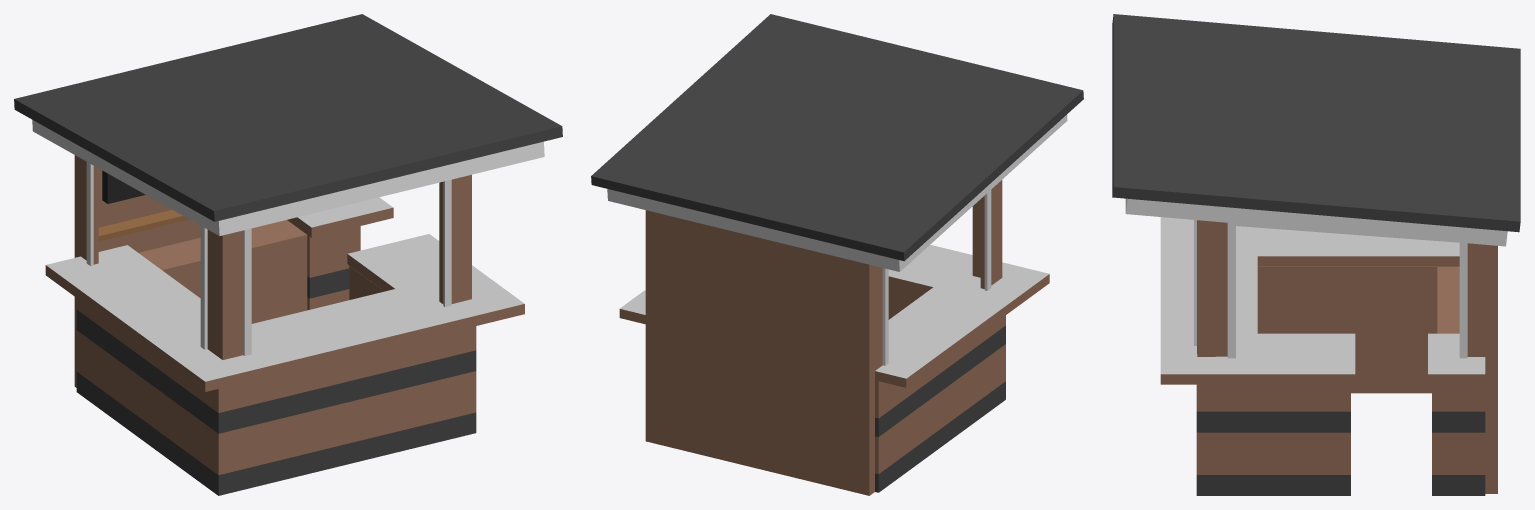
File: Towels_cabin_01.fbx
3 renders of one model, left to right at view 1: azimuth 30°, elevation 25°; view 2: azimuth 150°, elevation 25°; view 3: azimuth 270°, elevation 25°, orthographic. The views are drawn at different scales.
Parts seen in each view (by area): view 1: Towels_cabin_01; view 2: Towels_cabin_01; view 3: Towels_cabin_01.
Part boxes in pixels (box(x1,y1,x2,y2)): Towels_cabin_01: box(14, 14, 562, 495); Towels_cabin_01: box(591, 14, 1083, 495); Towels_cabin_01: box(1112, 14, 1520, 495).
Bounding box in the file's own units: 338 × 302 × 337.
